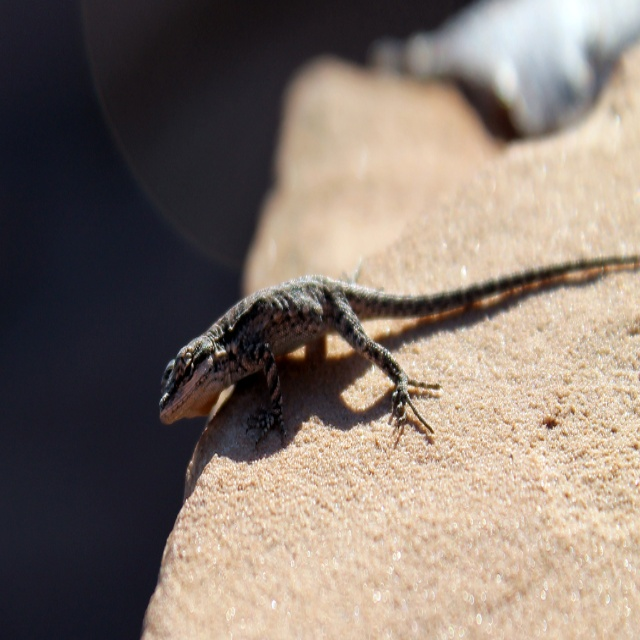Lizard: (160, 237, 640, 450)
